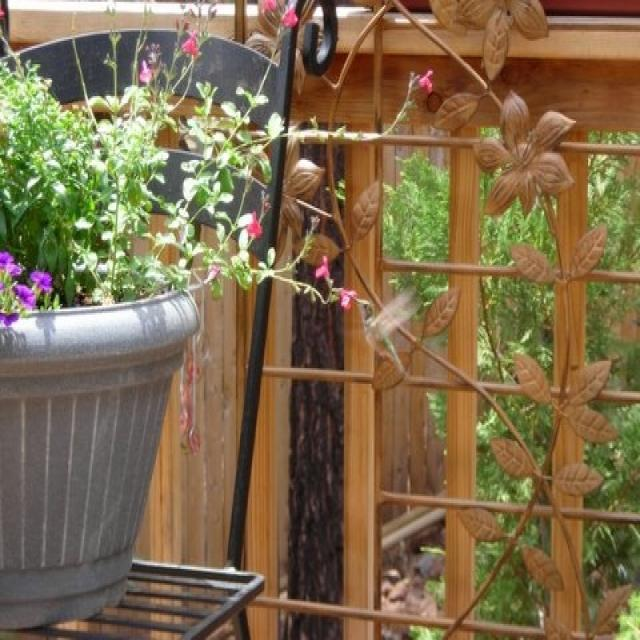bird: (352, 288, 420, 379)
chair: (1, 2, 338, 638)
pottedplant: (1, 2, 352, 629)
